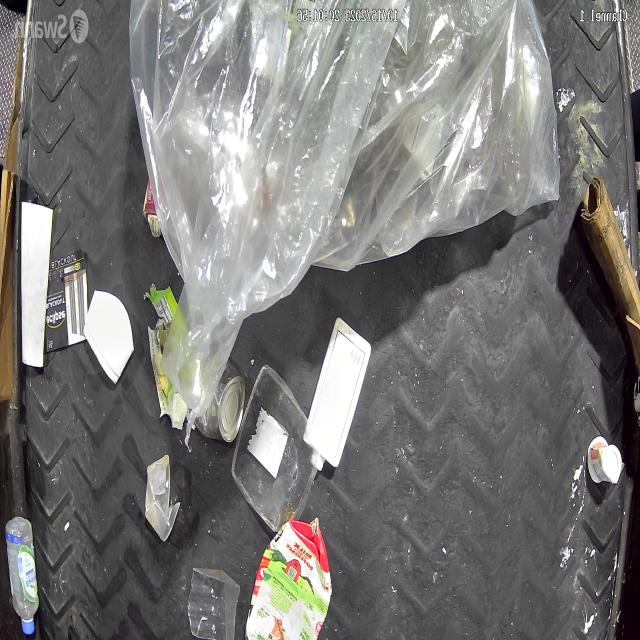can: (188, 357, 245, 441)
milk_jug: (300, 318, 372, 474)
non_white_jug: (242, 510, 330, 640)
plastic_bottle: (4, 513, 39, 635)
